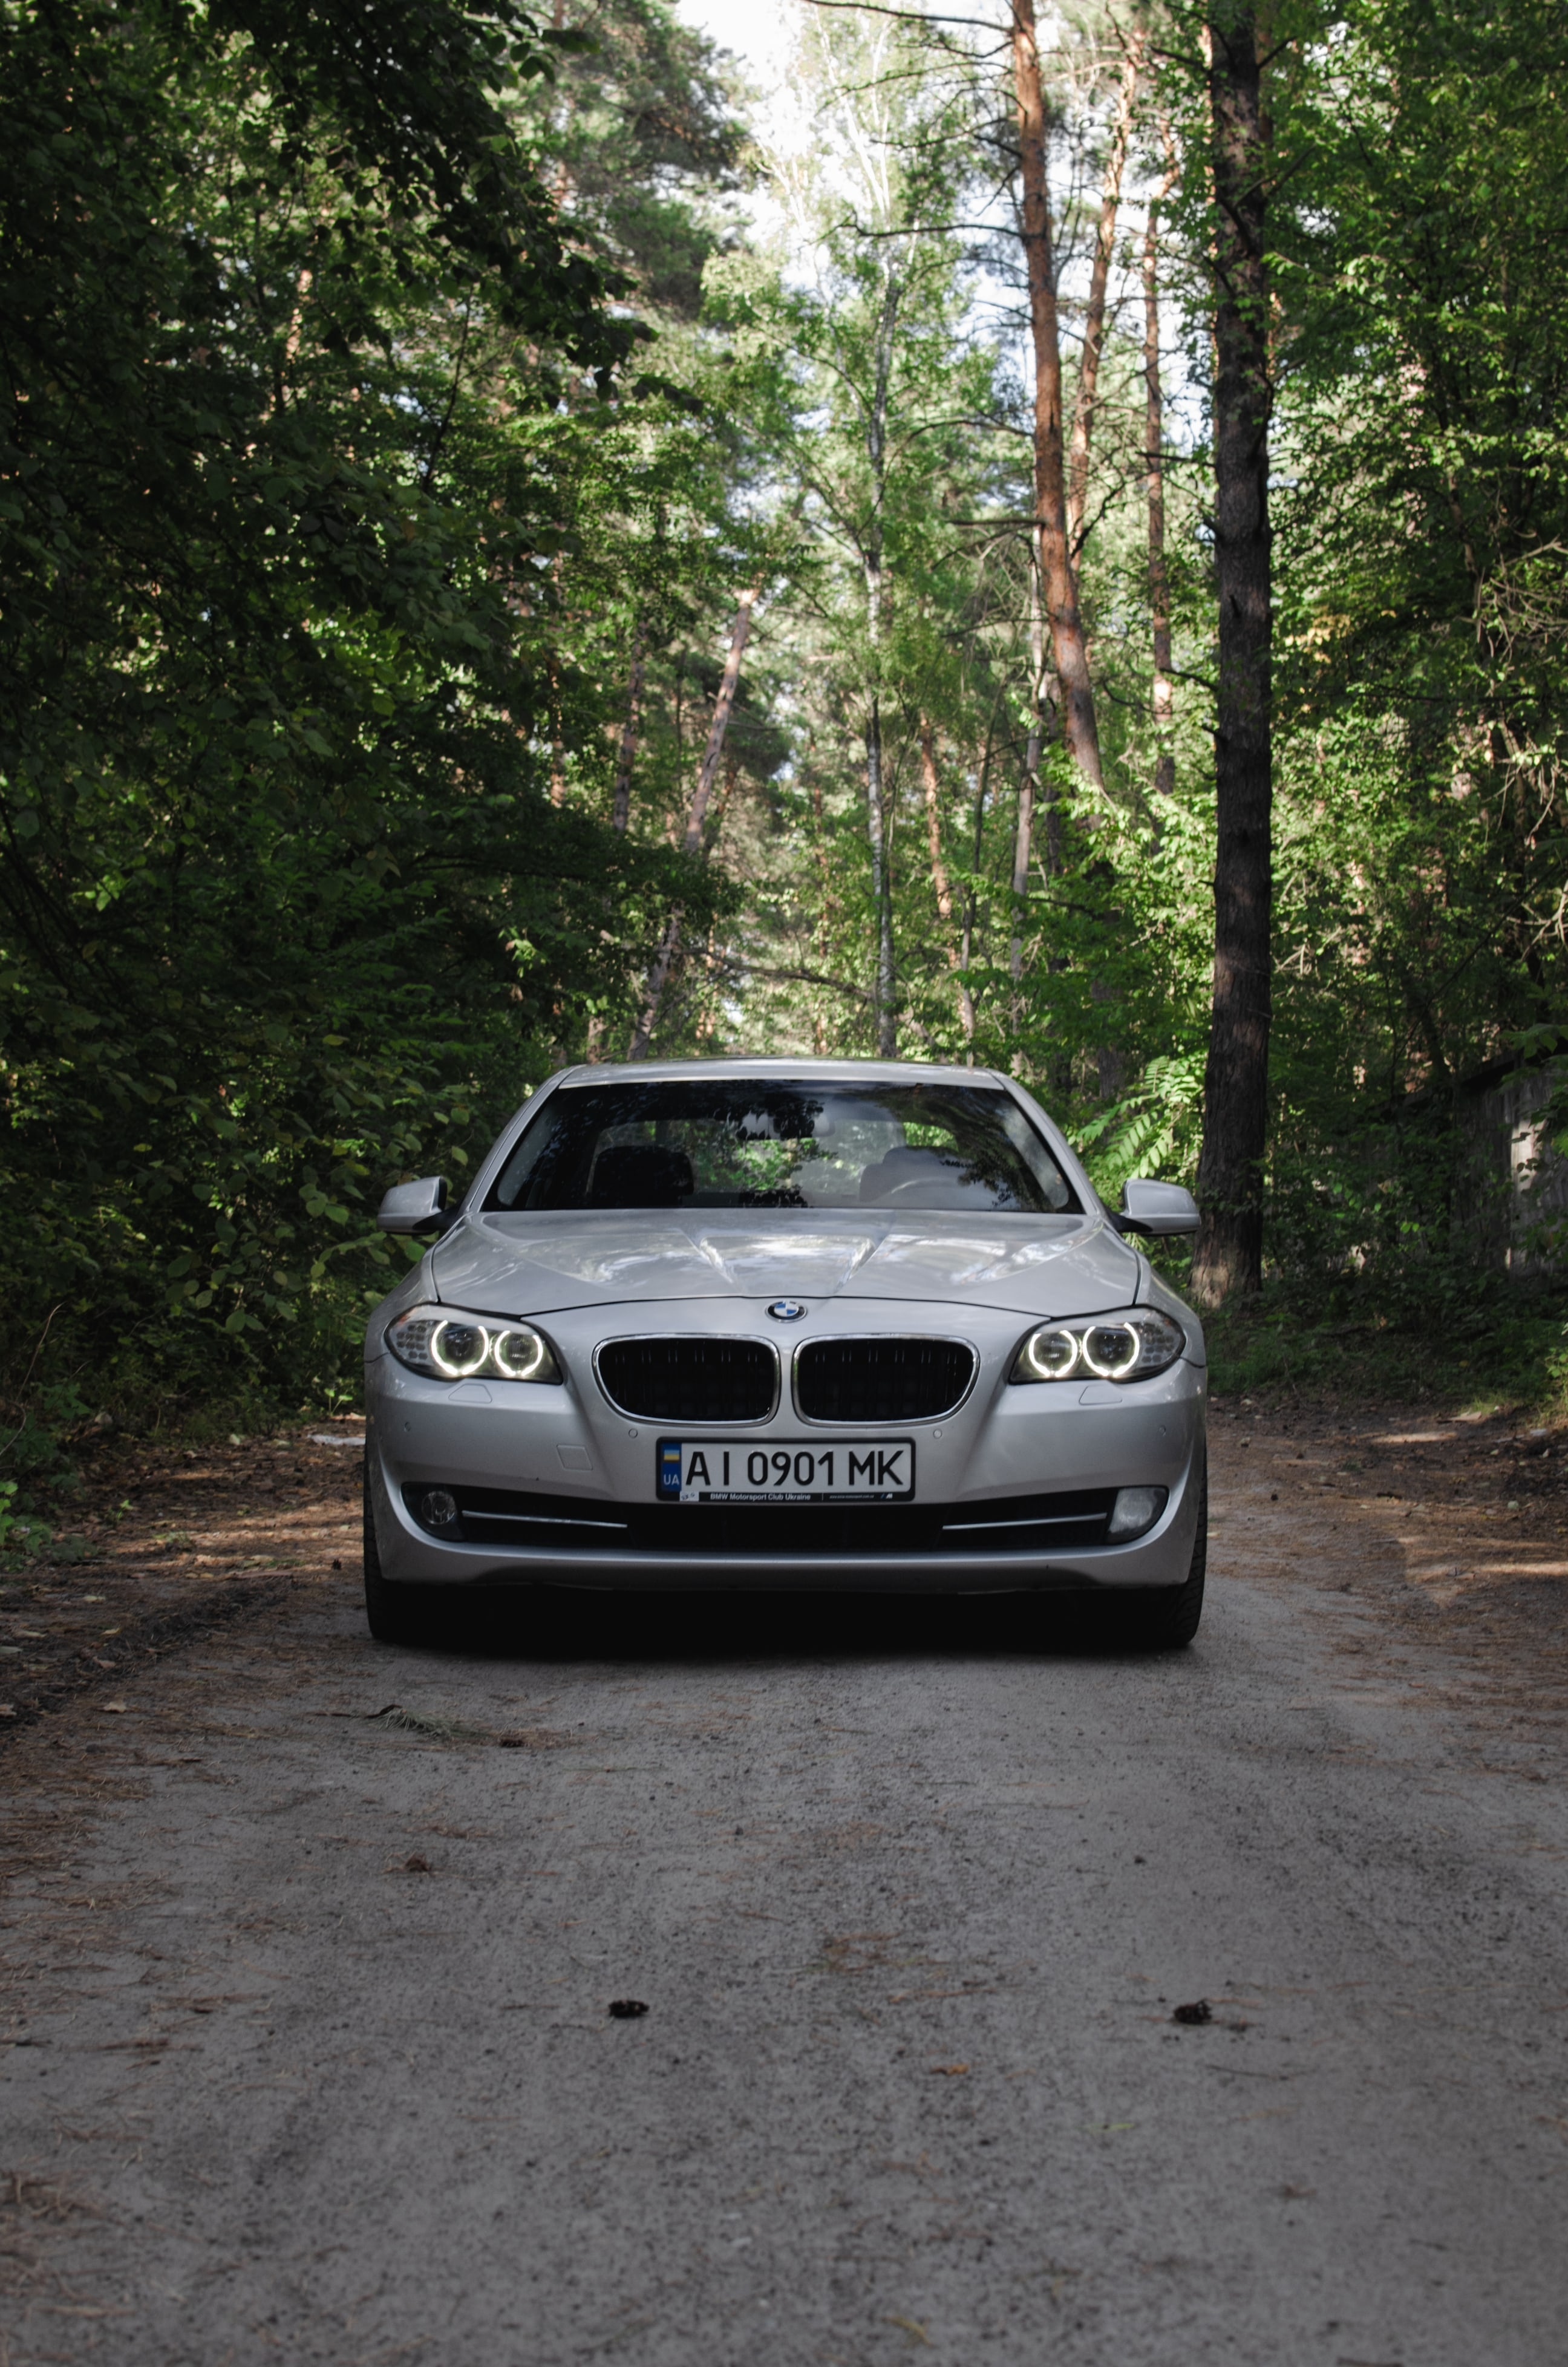plaka: (653, 1435, 918, 1500)
